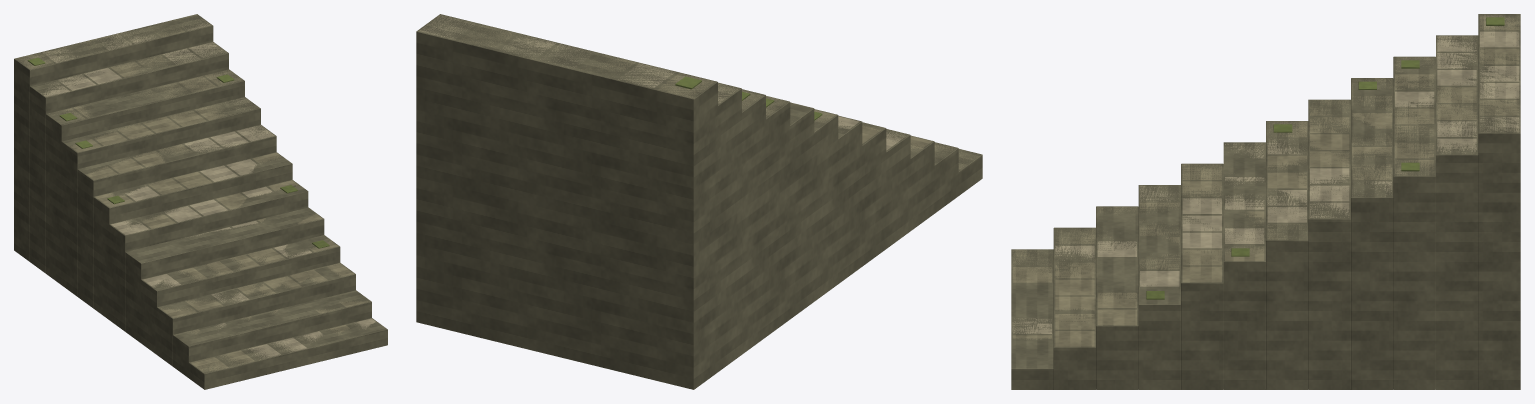
The model's file is SM_Pilot_StoneStairs2mRise.fbx.
3 renders of one model, left to right at view 1: azimuth 30°, elevation 25°; view 2: azimuth 150°, elevation 25°; view 3: azimuth 270°, elevation 25°, orthographic. The views are drawn at different scales.
Parts seen in each view (by area): view 1: SM_Pilot_StoneStairs2mRise; view 2: SM_Pilot_StoneStairs2mRise; view 3: SM_Pilot_StoneStairs2mRise.
Boxes of the visible parts, x1,y1,x2,y2 form: SM_Pilot_StoneStairs2mRise: (14,14,387,389); SM_Pilot_StoneStairs2mRise: (416,14,982,389); SM_Pilot_StoneStairs2mRise: (1011,14,1520,389).
Size of the model in its own units: 200 by 360 by 201.
4 materials, 4 textured.
